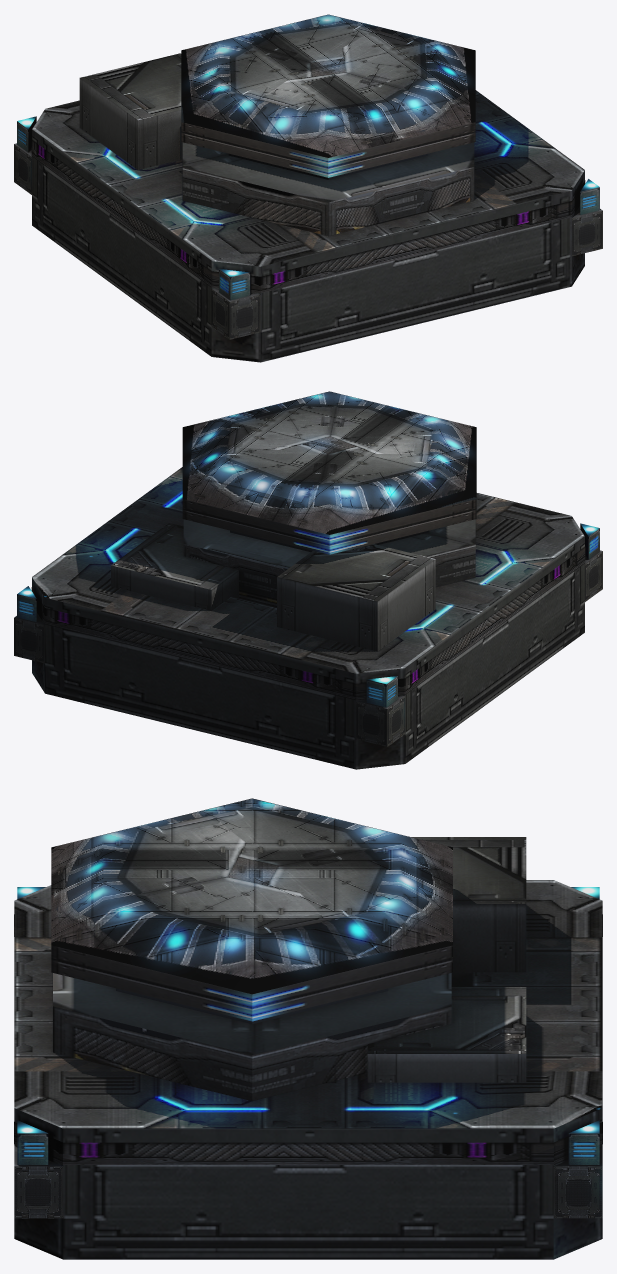
File: act01_pr04_obstruct03.fbx
The picture shows the model from 3 angles, top to bottom: view 1: azimuth 30°, elevation 25°; view 2: azimuth 150°, elevation 25°; view 3: azimuth 270°, elevation 25°; orthographic projection. The views are drawn at different scales.
Visible parts, largest first — view 1: polySurface232, polySurface239, polySurface238, polySurface240, polySurface233, polySurface237, polySurface234, polySurface230, polySurface236, polySurface228, polySurface231; view 2: polySurface232, polySurface239, polySurface240, polySurface233, polySurface238, polySurface241, polySurface236, polySurface235, polySurface231, polySurface237, polySurface229, polySurface230; view 3: polySurface232, polySurface239, polySurface238, polySurface233, polySurface241, polySurface240, polySurface234, polySurface235, polySurface228, polySurface229.
Boxes of the visible parts, x1,y1,x2,y2 form: polySurface232: [32, 90, 584, 362]; polySurface239: [181, 14, 475, 177]; polySurface238: [182, 142, 474, 236]; polySurface240: [79, 53, 182, 169]; polySurface233: [31, 140, 585, 293]; polySurface237: [211, 288, 260, 339]; polySurface234: [572, 205, 602, 256]; polySurface230: [219, 269, 250, 300]; polySurface236: [14, 143, 31, 194]; polySurface228: [580, 179, 599, 214]; polySurface231: [17, 116, 36, 152]; polySurface232: [32, 467, 584, 769]; polySurface239: [182, 391, 476, 554]; polySurface240: [277, 544, 435, 651]; polySurface233: [31, 547, 585, 700]; polySurface238: [183, 519, 475, 607]; polySurface241: [111, 523, 238, 610]; polySurface236: [356, 696, 405, 746]; polySurface235: [14, 612, 44, 663]; polySurface231: [366, 676, 397, 707]; polySurface237: [585, 550, 602, 601]; polySurface229: [17, 586, 36, 621]; polySurface230: [580, 523, 599, 559]; polySurface232: [14, 880, 602, 1259]; polySurface239: [51, 798, 452, 1021]; polySurface238: [53, 973, 451, 1100]; polySurface233: [14, 914, 602, 1164]; polySurface241: [367, 987, 526, 1082]; polySurface240: [411, 837, 526, 986]; polySurface234: [14, 1146, 63, 1218]; polySurface235: [553, 1146, 602, 1218]; polySurface228: [17, 1120, 48, 1164]; polySurface229: [568, 1120, 599, 1164].
Size of the model in its own units: 1 by 0.4936 by 1.
